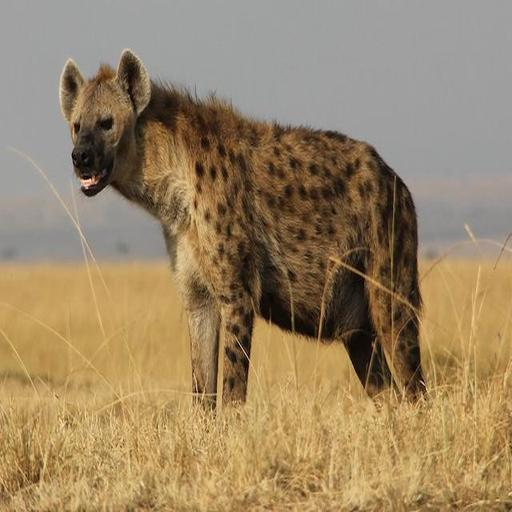Hyena: (56, 35, 435, 428)
